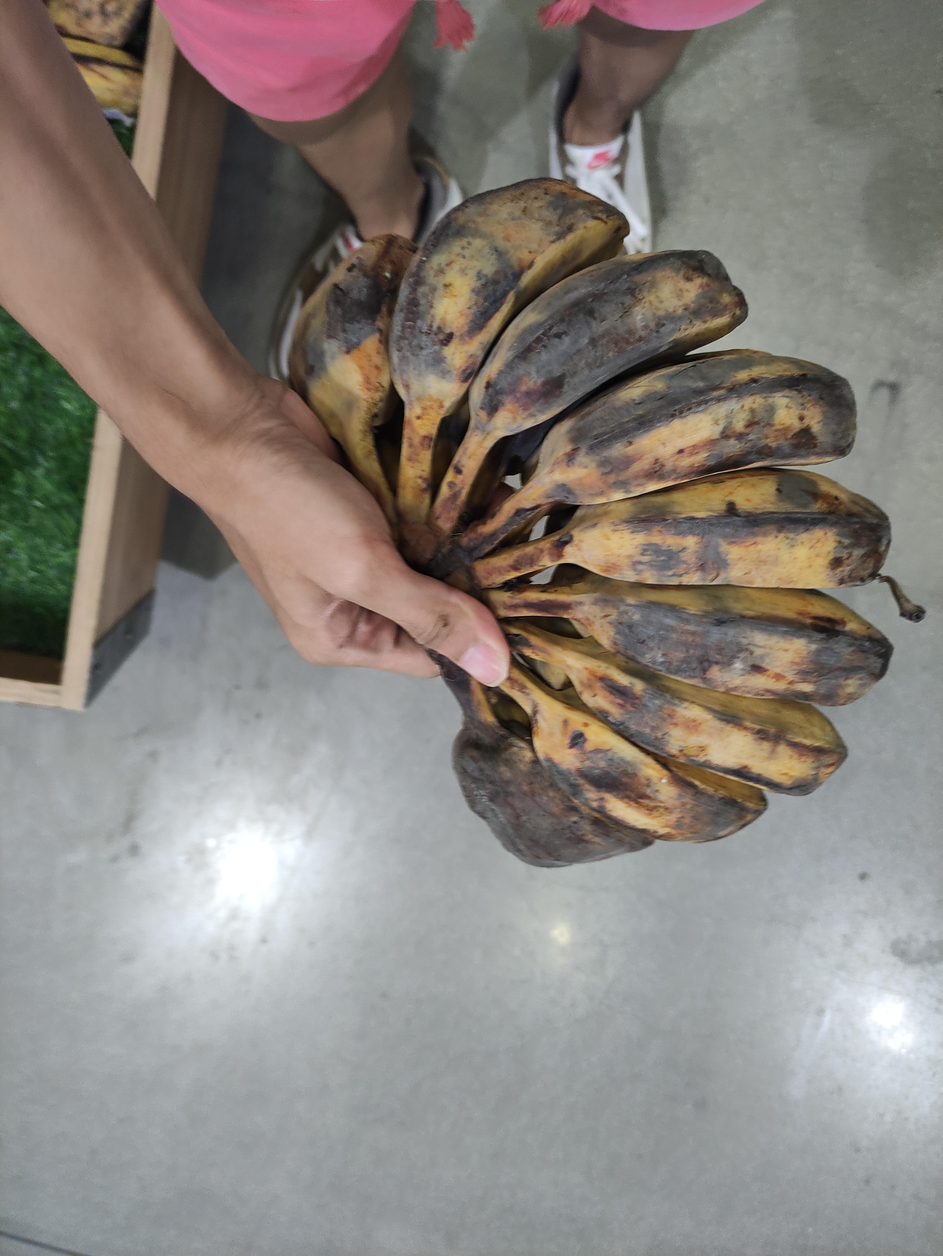overripe: (289, 179, 892, 866)
